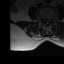CCS_stenosis: (46, 17, 48, 25)
LFS_stenosis: (50, 17, 52, 22)
LLS_normal: (48, 17, 50, 24)
RFS_stenosis: (42, 17, 44, 22)
RLS_stenosis: (44, 17, 46, 23)
